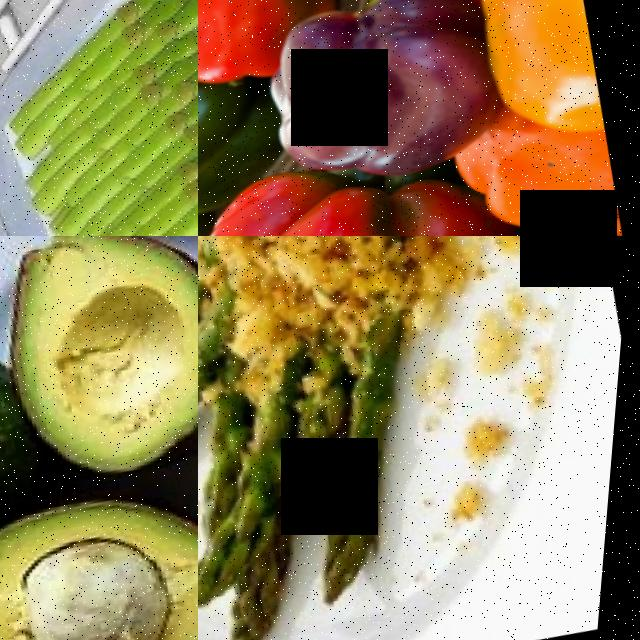asparagus: (286, 344, 470, 595), (198, 426, 339, 619)
avocado: (0, 236, 198, 498), (0, 429, 198, 640), (0, 288, 87, 640)
bell pepper: (250, 0, 516, 191), (204, 163, 461, 236), (198, 41, 282, 219), (198, 0, 305, 85)
